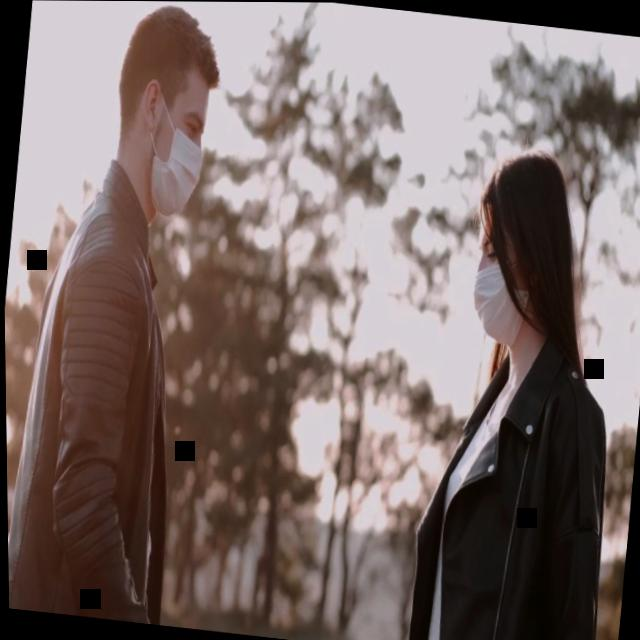Mask: (144, 75, 211, 219), (465, 209, 534, 347)
